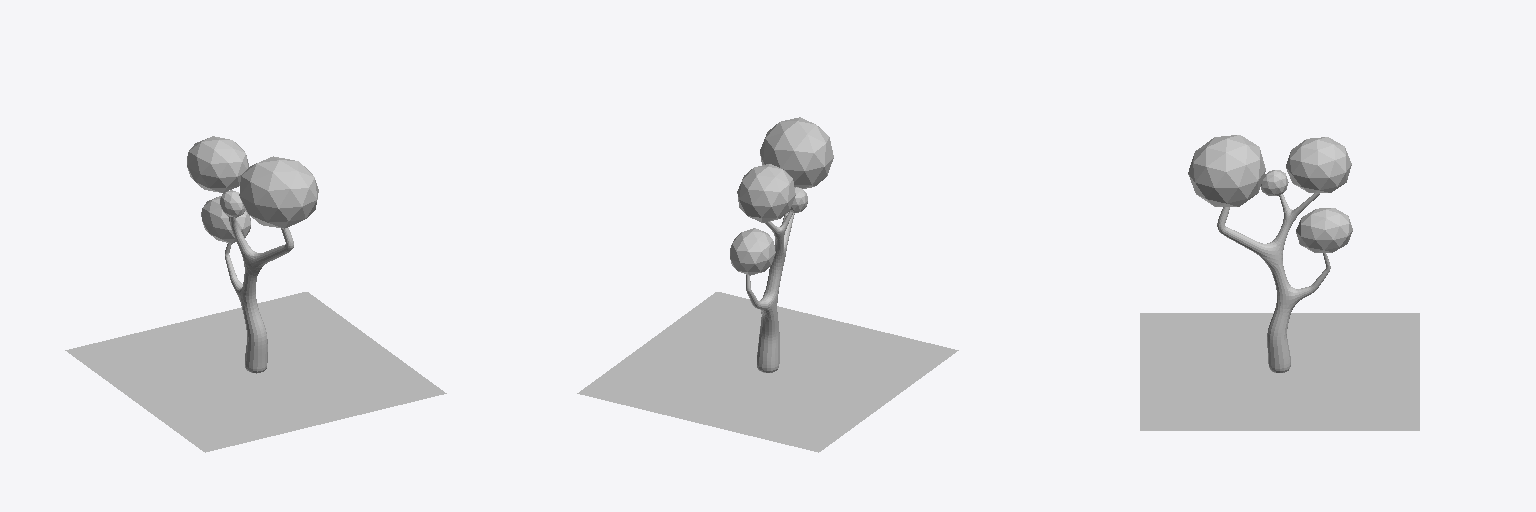
The model's file is bueno1.obj.
3 views of the same model, side by side, from view 1: azimuth 30°, elevation 25°; view 2: azimuth 150°, elevation 25°; view 3: azimuth 270°, elevation 25° (orthographic).
Parts seen in each view (by area): view 1: Plane, Icosphere.002, Cube_Cube.002, Icosphere.001, Icosphere; view 2: Plane, Icosphere.002, Cube_Cube.002, Icosphere.001, Icosphere; view 3: Plane, Icosphere.002, Cube_Cube.002, Icosphere.001, Icosphere, Icosphere.003.
Part boxes in pixels (x1,y1,x2,y2): Plane: (65, 292, 446, 452); Icosphere.002: (239, 156, 318, 228); Cube_Cube.002: (225, 216, 293, 373); Icosphere.001: (187, 136, 248, 192); Icosphere: (201, 196, 250, 243); Plane: (577, 292, 958, 452); Icosphere.002: (760, 117, 833, 188); Cube_Cube.002: (746, 211, 794, 372); Icosphere.001: (737, 164, 795, 222); Icosphere: (730, 228, 775, 275); Plane: (1140, 313, 1419, 430); Icosphere.002: (1188, 135, 1265, 206); Cube_Cube.002: (1217, 193, 1330, 372); Icosphere.001: (1286, 137, 1351, 192); Icosphere: (1296, 208, 1352, 252); Icosphere.003: (1261, 170, 1288, 195).
Size of the model in its own units: 20 by 18.32 by 20.